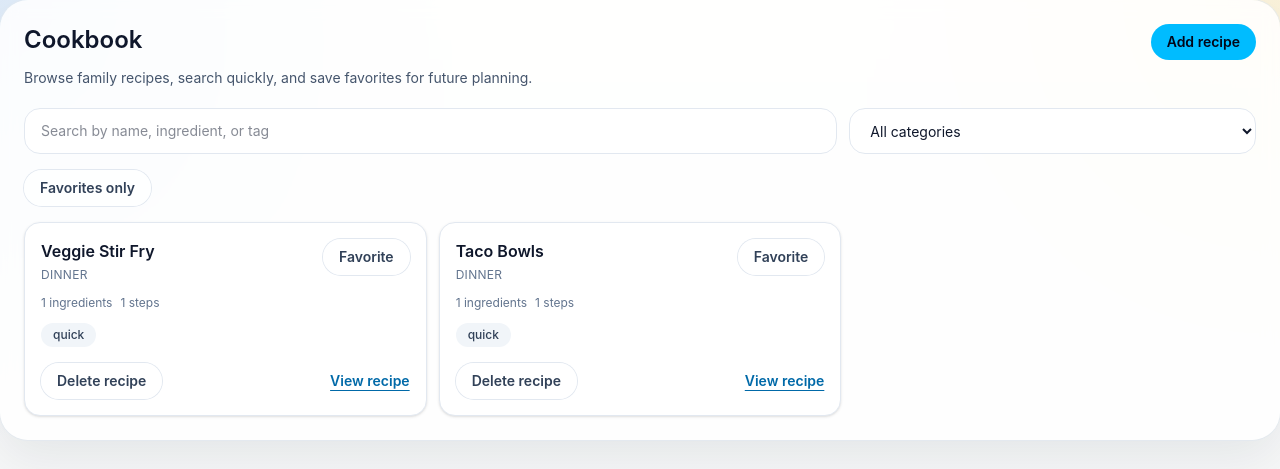
CookbookPage › deletes a recipe from the cookbook after confirmation
Check: the link "Veggie Stir Fry" is shown, box [41,241,155,261]
Click the button "Delete recipe" below "Veggie Stir Fry": (102, 381) [41,363,162,399]
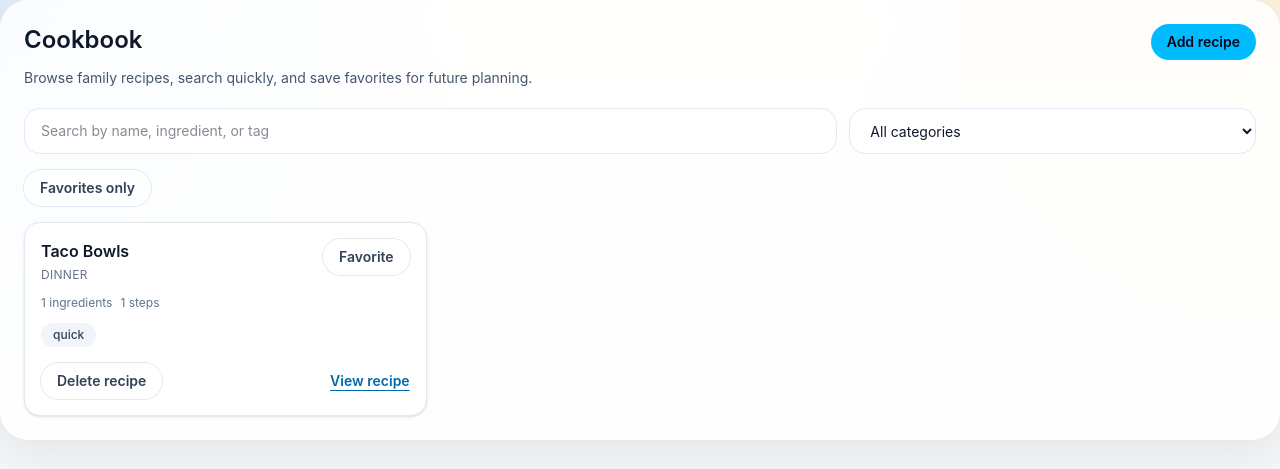
Check: the link "Taco Bowls" is shown, box [41,241,129,261]
Check: the link "Veggie Stir Fry" is gone
